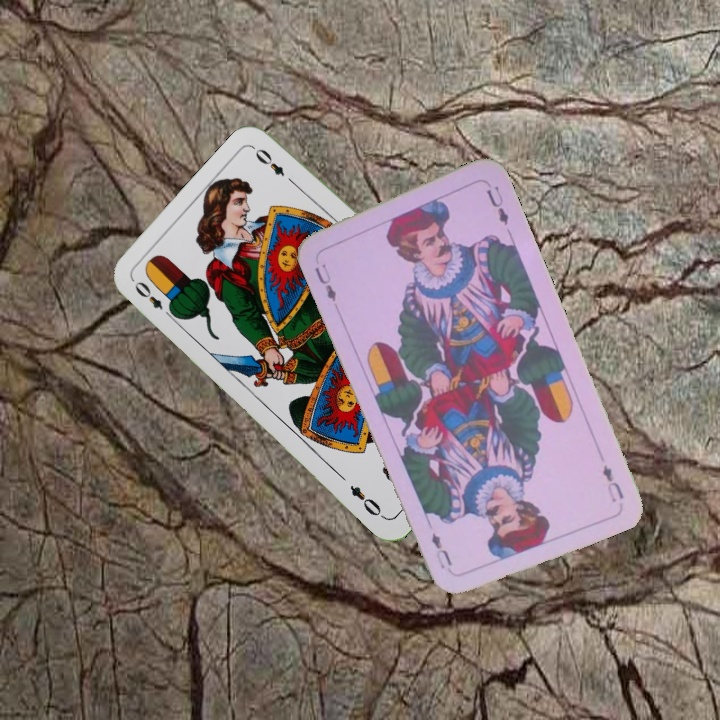EO: (130, 277, 178, 323)
EU: (310, 259, 339, 305), (598, 461, 627, 505)
